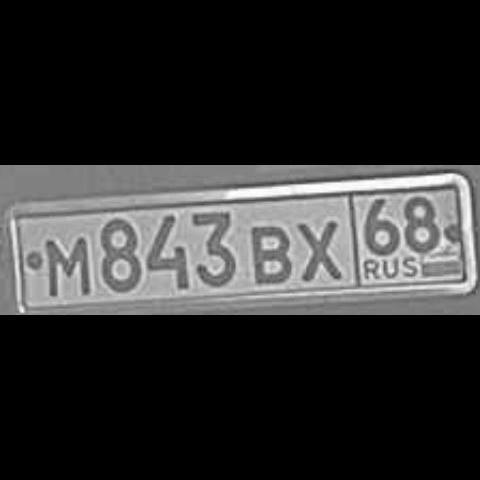license-plateSW: (10, 178, 468, 308)
